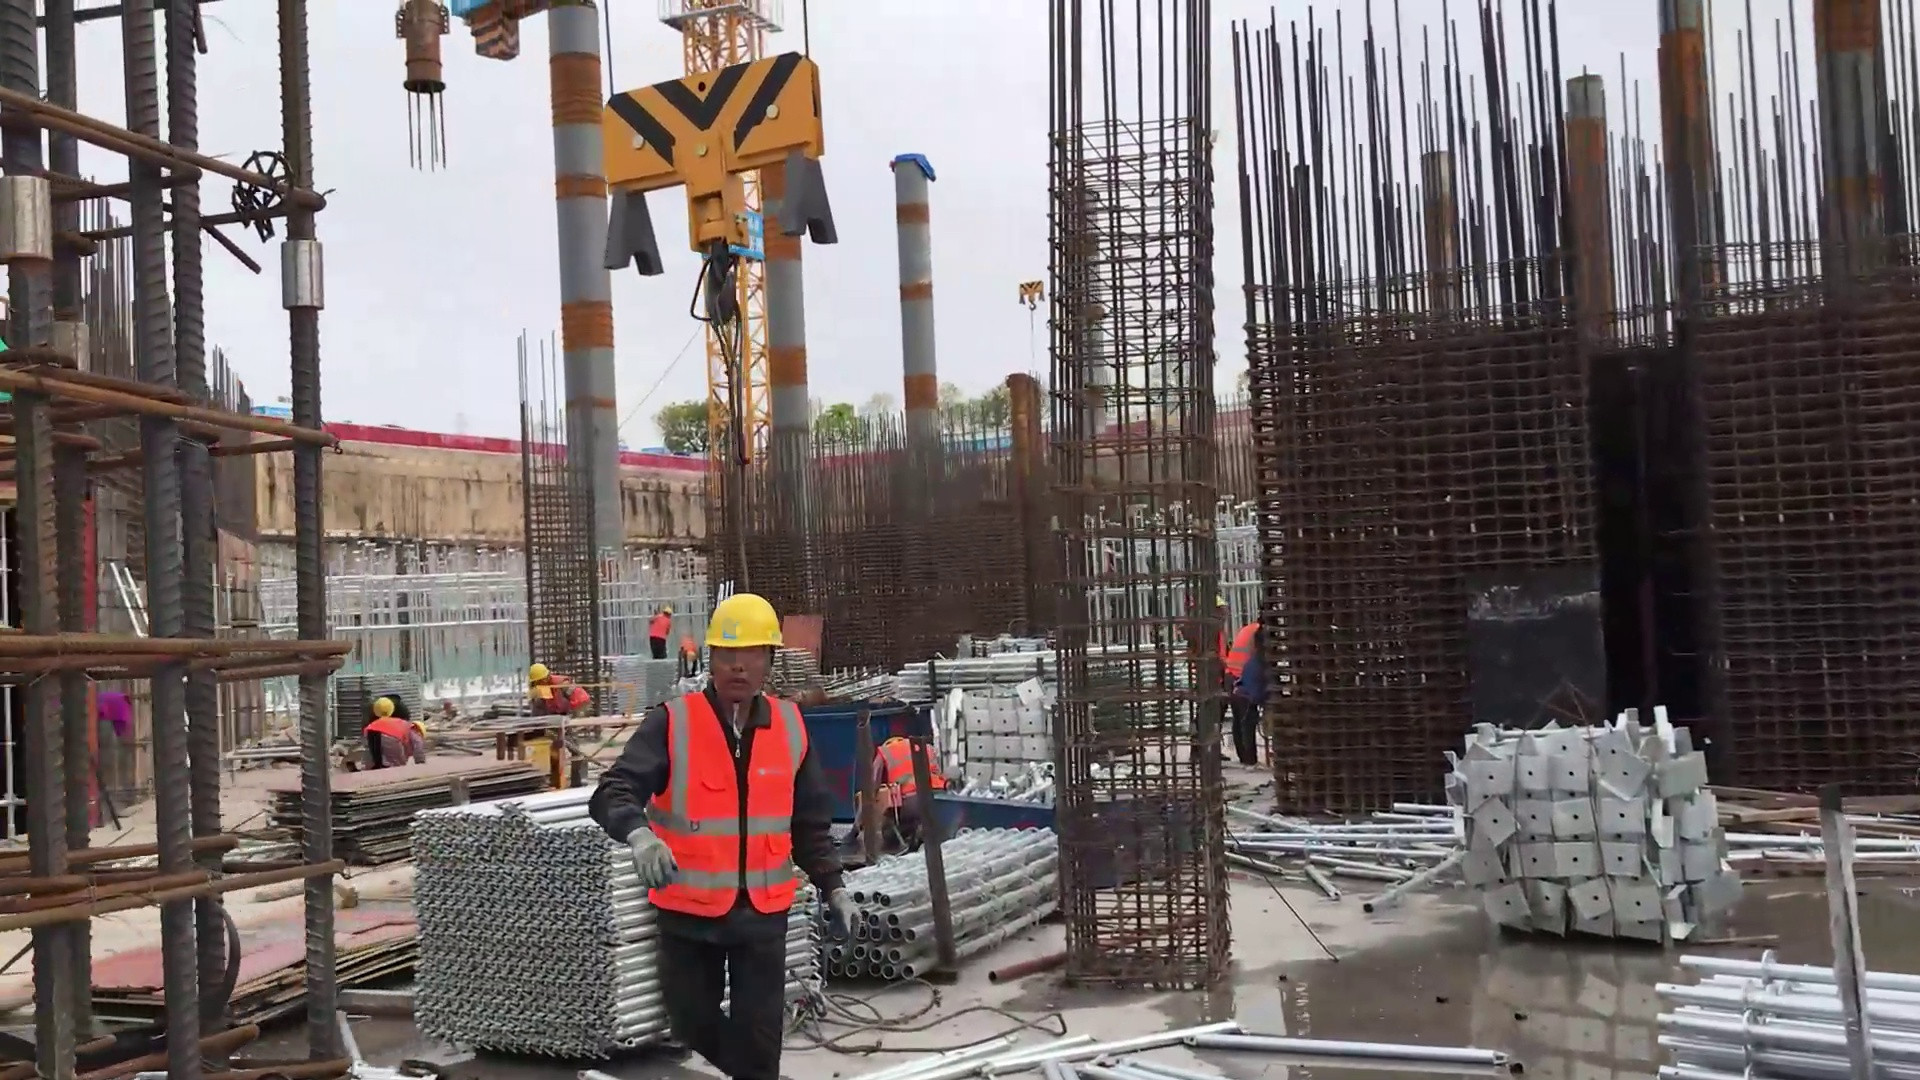helmet: (702, 586, 788, 658), (372, 697, 397, 720), (527, 663, 553, 684), (660, 601, 679, 620)
person: (586, 585, 858, 1080), (875, 737, 953, 851), (1225, 617, 1270, 776), (525, 658, 590, 735), (361, 714, 434, 776), (360, 690, 414, 727), (673, 634, 703, 682), (650, 606, 675, 659)
vest: (638, 694, 815, 921), (876, 739, 946, 804), (1228, 621, 1267, 690), (549, 677, 590, 719), (364, 715, 414, 746), (651, 614, 673, 644), (677, 637, 700, 661)
